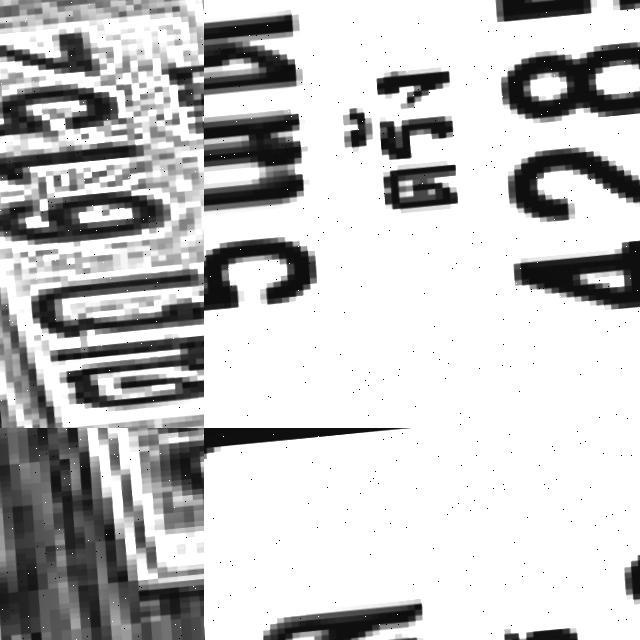license-plate: (204, 0, 640, 428), (204, 428, 640, 640), (0, 0, 204, 428), (0, 428, 204, 640)
